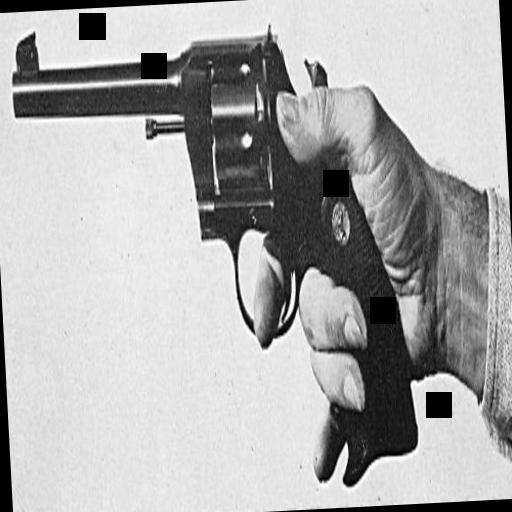Handgun: (11, 9, 426, 486)
